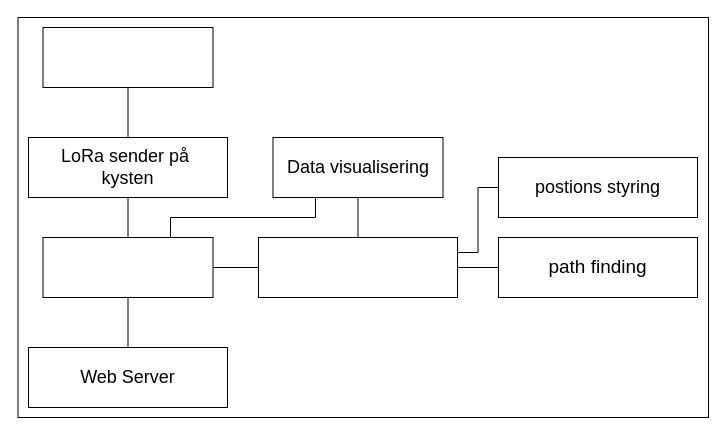
Image size: 726x435. Some labels were removed from this diagram. Here are the shapes that lost their labels. From the top down, the box of each, then its label:
(42, 26, 213, 88): Data oploade
(42, 236, 213, 298): Omliggende systemer
(258, 236, 458, 298): GPS kommulikation
